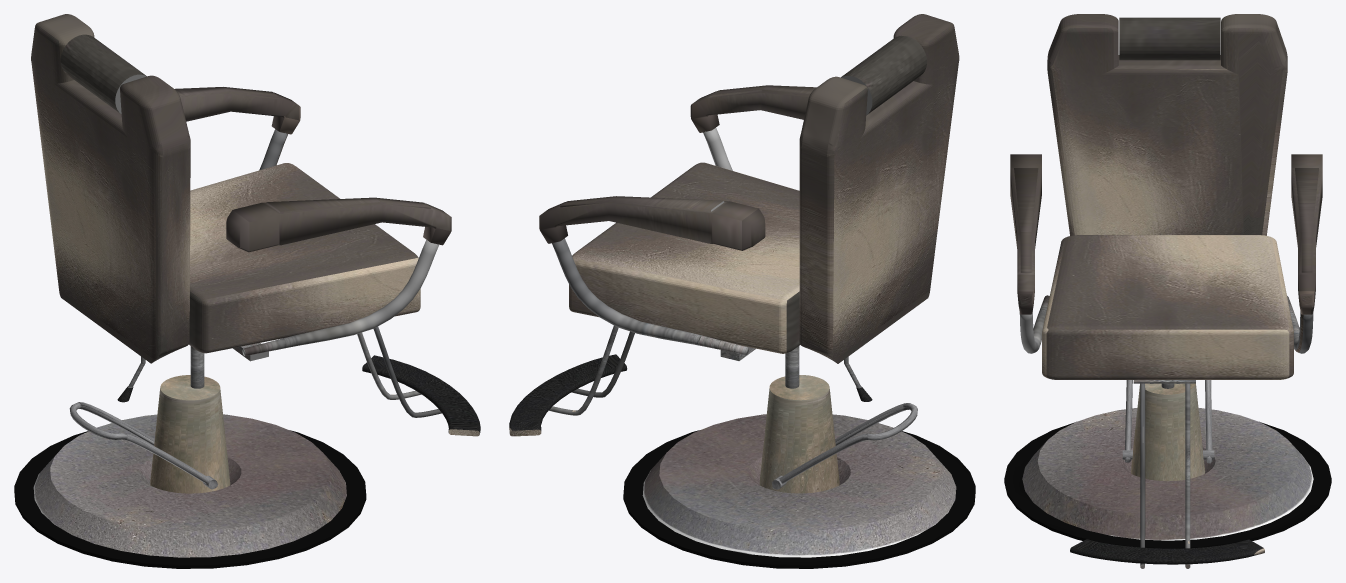
The model's file is Chair.fbx.
3 renders of one model, left to right at view 1: azimuth 30°, elevation 25°; view 2: azimuth 150°, elevation 25°; view 3: azimuth 270°, elevation 25°, orthographic. The views are drawn at different scales.
Parts seen in each view (by area): view 1: Chair, ChairBase, ChairHandle; view 2: Chair, ChairBase, ChairHandle; view 3: Chair, ChairBase, ChairHandle.
Boxes of the visible parts, x1,y1,x2,y2 form: Chair: (31,14,480,436); ChairBase: (14,375,366,568); ChairHandle: (69,402,217,489); Chair: (509,14,959,436); ChairBase: (623,375,975,568); ChairHandle: (772,403,917,489); Chair: (1010,14,1322,568); ChairBase: (1004,383,1331,548); ChairHandle: (1122,380,1214,463).
Size of the model in its own units: 272 by 287 by 200.
3 materials, 3 textured.
